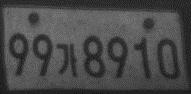0: (156, 38, 181, 81)
1: (132, 36, 153, 81)
8: (83, 34, 106, 79)
9: (7, 32, 30, 77), (105, 36, 129, 79), (31, 33, 53, 78)
가: (55, 41, 79, 79)
